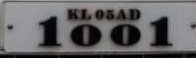character: (37, 15, 62, 47), (109, 22, 140, 47), (69, 23, 101, 47), (149, 16, 173, 47), (128, 7, 140, 20), (80, 8, 92, 20), (67, 7, 77, 19), (116, 8, 126, 20), (94, 8, 104, 19), (105, 8, 113, 20)
